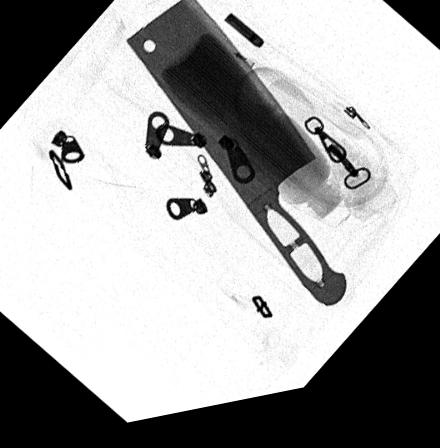Knife: (121, 1, 346, 322)
